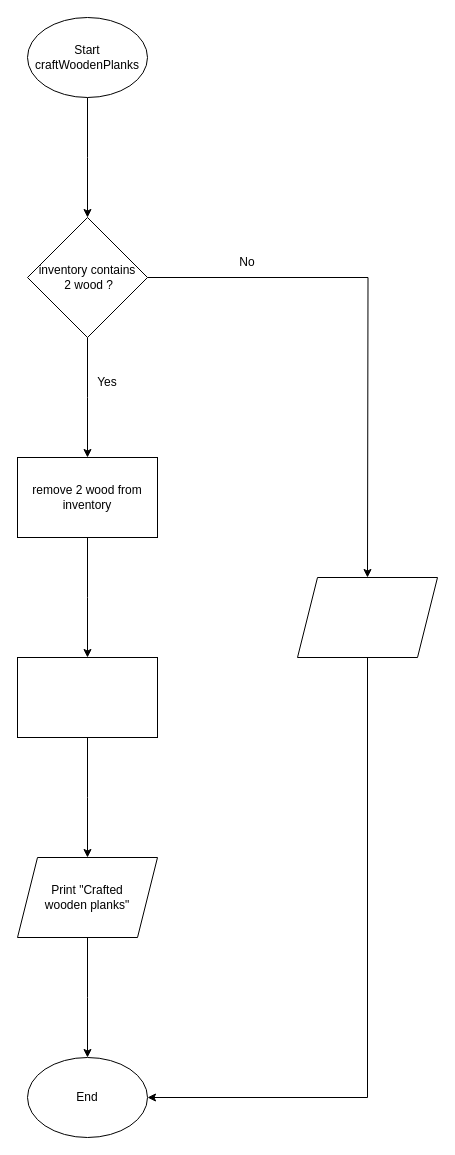
This 455x1155 diagram has some shape labels left out. Here are the shapes that lost their labels. From the top down, the centre of each, then its label:
pixel 367 617: Print " Insufficient resources to craft wooden planks"
pixel 87 697: add 1 wooden plank to crafted items
